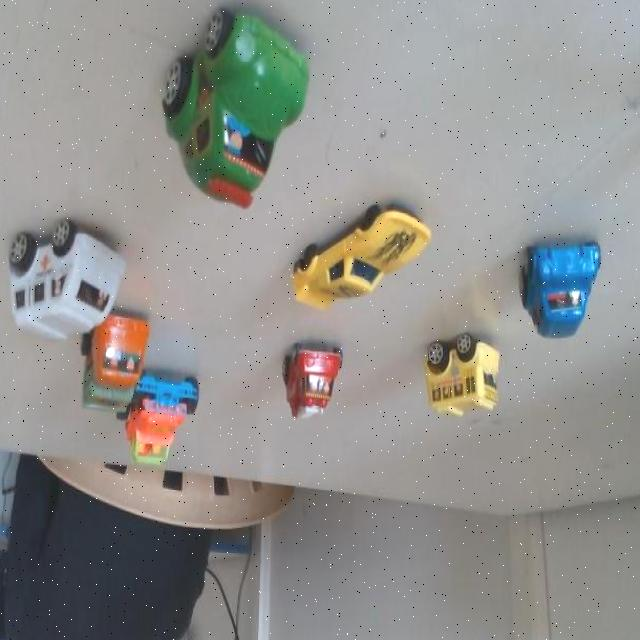car: (151, 3, 323, 210), (5, 198, 138, 361), (292, 194, 428, 320), (414, 320, 502, 420), (126, 372, 206, 475), (271, 326, 344, 432), (524, 238, 600, 339), (81, 307, 147, 421)
